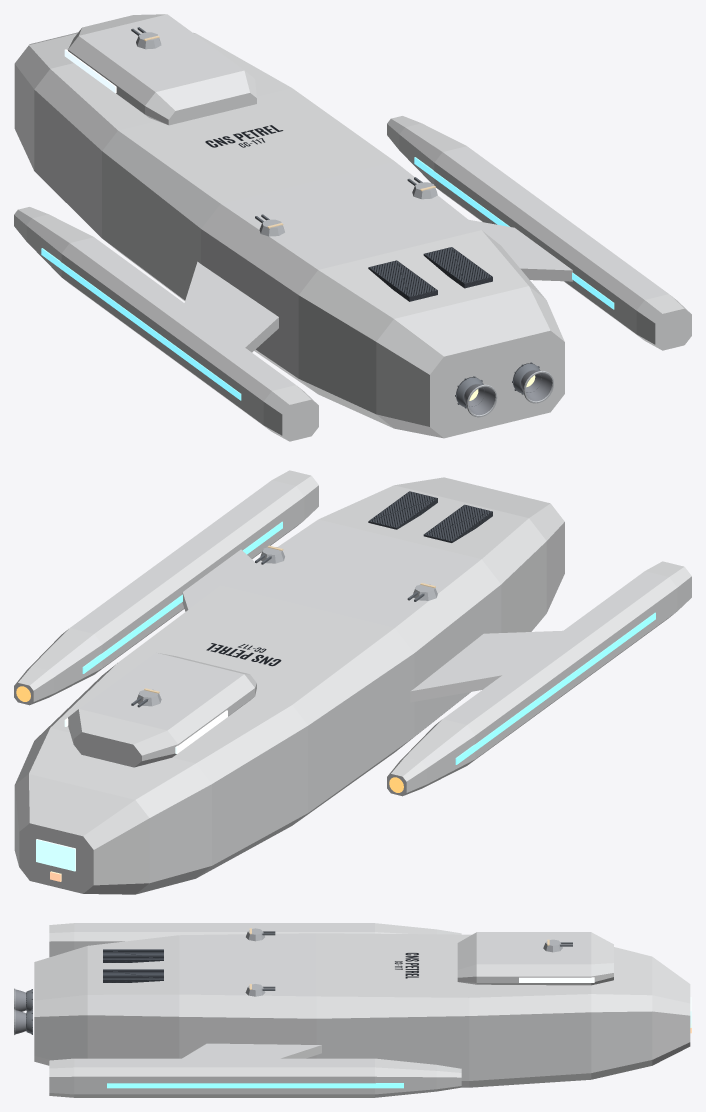
The model's file is petrel_level.glb.
3 renders of one model, top to bottom at view 1: azimuth 30°, elevation 25°; view 2: azimuth 150°, elevation 25°; view 3: azimuth 270°, elevation 25°, orthographic. The views are drawn at different scales.
Visible parts, largest first — view 1: hull, nacelle_port_paint_nacelle, nacelle_starboard_paint_nacelle, command_paint_plain, pylon_port_paint_plain, hull_radiator, nacelle_starboard_paint_plain, nacelle_port_glow_grille, hull_drive_bell, nacelle_port_paint_plain, nacelle_starboard_glow_grille, hull_weapons_metal_8a9098 (+1 smaller); view 2: hull, nacelle_port_paint_nacelle, nacelle_starboard_paint_nacelle, command_paint_plain, pylon_port_paint_plain, hull_radiator, nacelle_port_glow_grille, nacelle_starboard_paint_plain, nacelle_port_paint_plain, nacelle_starboard_glow_grille, hull_deflector_glow_dish, hull_weapons_metal_8a9098; view 3: hull, nacelle_starboard_paint_nacelle, command_paint_plain, nacelle_port_paint_nacelle, pylon_starboard_paint_plain, nacelle_starboard_glow_grille, hull_radiator, hull_weapons_metal_8a9098, hull_drive_bell, command_glow_bridge, hull_drive_metal_3a4049.
Boxes of the visible parts, box(x1,y1,x2,y2) form: hull: box(14, 32, 564, 438); nacelle_port_paint_nacelle: box(14, 207, 318, 441); nacelle_starboard_paint_nacelle: box(387, 116, 691, 350); command_paint_plain: box(68, 14, 256, 125); pylon_port_paint_plain: box(188, 261, 278, 349); hull_radiator: box(368, 247, 492, 301); nacelle_starboard_paint_plain: box(473, 220, 572, 281); nacelle_port_glow_grille: box(41, 248, 241, 400); hull_drive_bell: box(464, 370, 551, 415); nacelle_port_paint_plain: box(184, 290, 255, 352); nacelle_starboard_glow_grille: box(414, 157, 614, 309); hull_weapons_metal_8a9098: box(136, 32, 437, 236); hull: box(14, 477, 564, 894); nacelle_port_paint_nacelle: box(387, 561, 691, 796); nacelle_starboard_paint_nacelle: box(14, 470, 318, 705); command_paint_plain: box(68, 652, 256, 767); pylon_port_paint_plain: box(410, 631, 538, 702); hull_radiator: box(368, 491, 492, 542); nacelle_port_glow_grille: box(455, 612, 655, 764); nacelle_starboard_paint_plain: box(182, 549, 254, 611); nacelle_port_paint_plain: box(473, 630, 562, 691); nacelle_starboard_glow_grille: box(82, 521, 282, 673); hull_deflector_glow_dish: box(36, 839, 75, 871); hull_weapons_metal_8a9098: box(137, 547, 437, 706); hull: box(34, 933, 690, 1087); nacelle_starboard_paint_nacelle: box(49, 1058, 461, 1097); command_paint_plain: box(457, 932, 613, 985); nacelle_port_paint_nacelle: box(49, 923, 461, 957); pylon_starboard_paint_plain: box(183, 1043, 321, 1058); nacelle_starboard_glow_grille: box(107, 1083, 403, 1088); hull_radiator: box(103, 949, 163, 982); hull_weapons_metal_8a9098: box(245, 928, 562, 996); hull_drive_bell: box(15, 989, 26, 1034); command_glow_bridge: box(519, 977, 594, 982); hull_drive_metal_3a4049: box(26, 989, 32, 1033).
Bounding box in the file's own units: 46.78 × 17.4 × 88.85.
17 materials, 2 textured.
